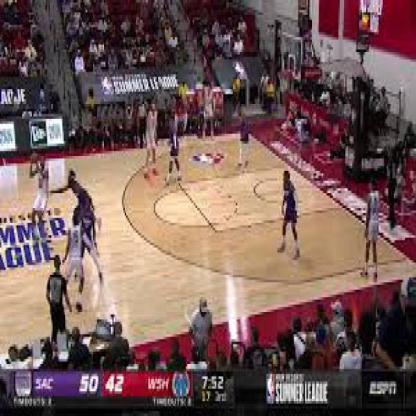basketball: (31, 151, 39, 166)
rim: (277, 70, 292, 80)
